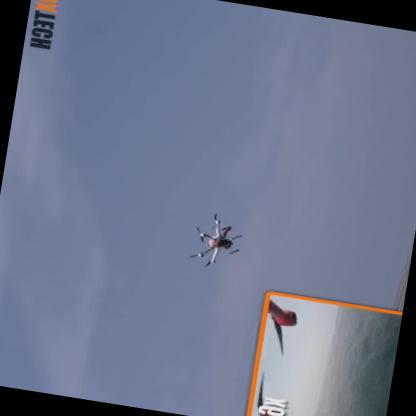drone: (168, 199, 257, 278)
